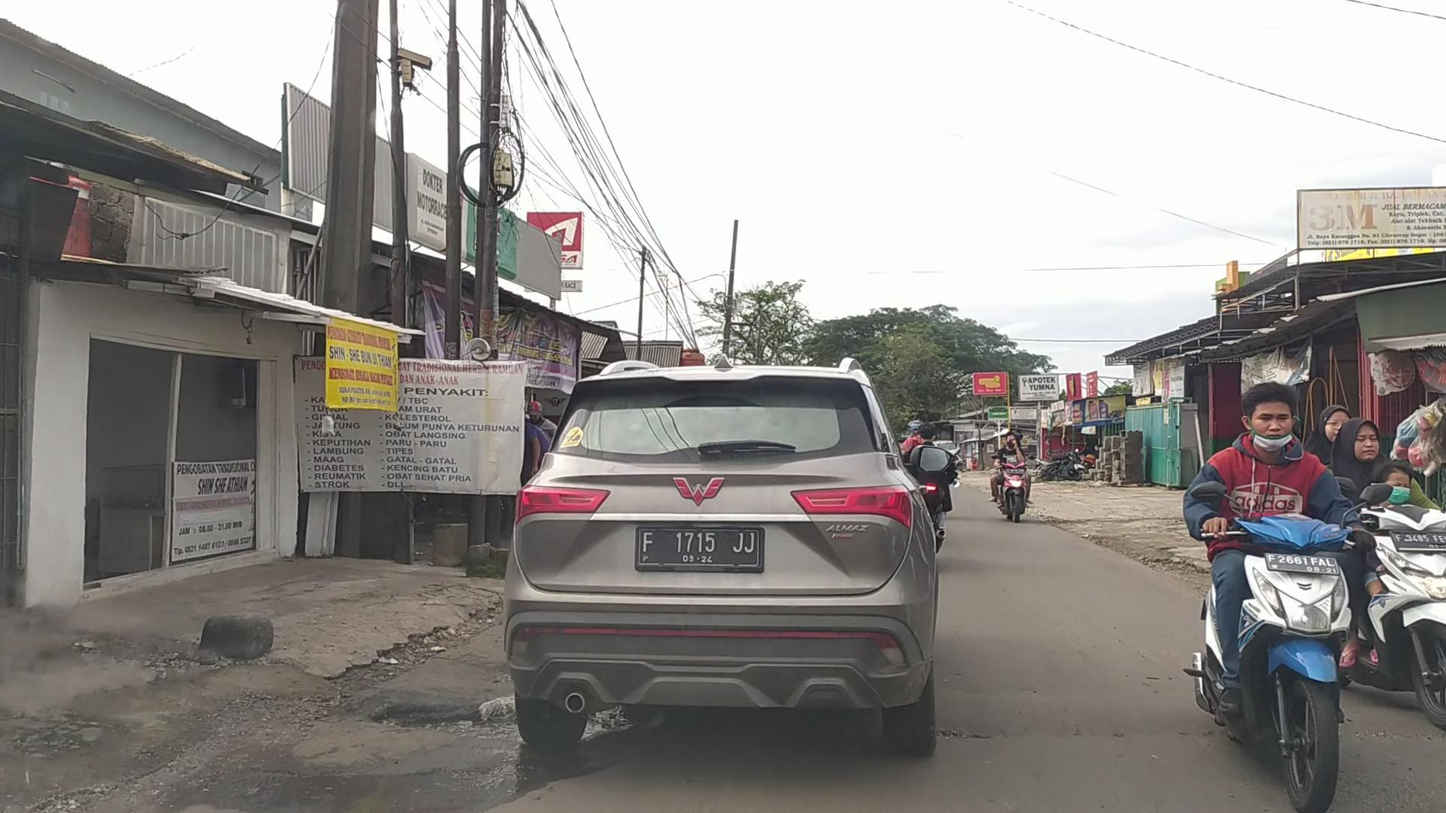pothole: (225, 759, 573, 812), (364, 698, 522, 742)
